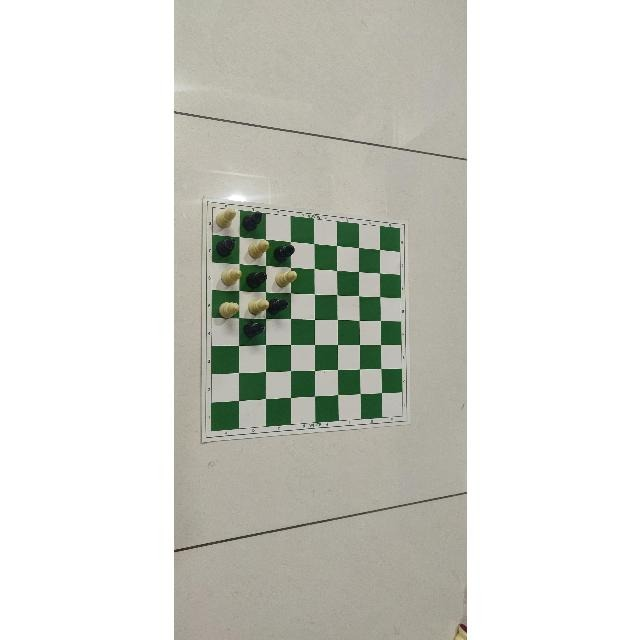black-bishop: (272, 237, 296, 264), (243, 264, 268, 289), (239, 320, 264, 344), (241, 211, 265, 235), (213, 236, 237, 260), (268, 292, 288, 317)
white-bishop: (212, 292, 240, 320), (212, 263, 242, 289), (245, 292, 269, 322), (240, 238, 269, 262), (270, 266, 297, 291), (213, 208, 235, 235)
